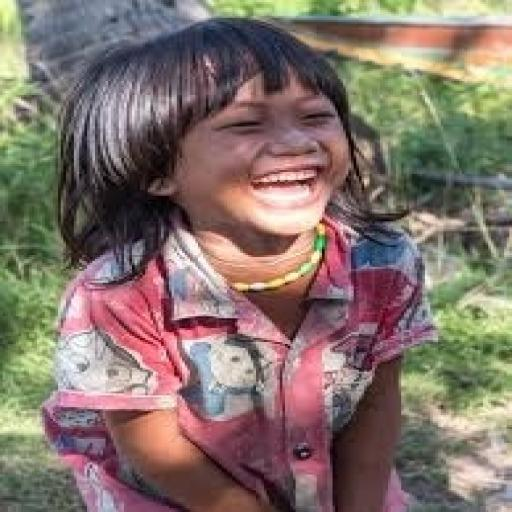laughing: (34, 12, 444, 510)
